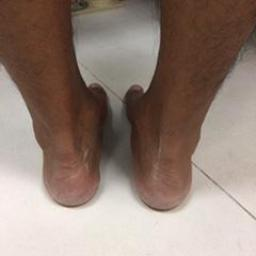Back View -Both Feet-: (8, 58, 232, 230)
